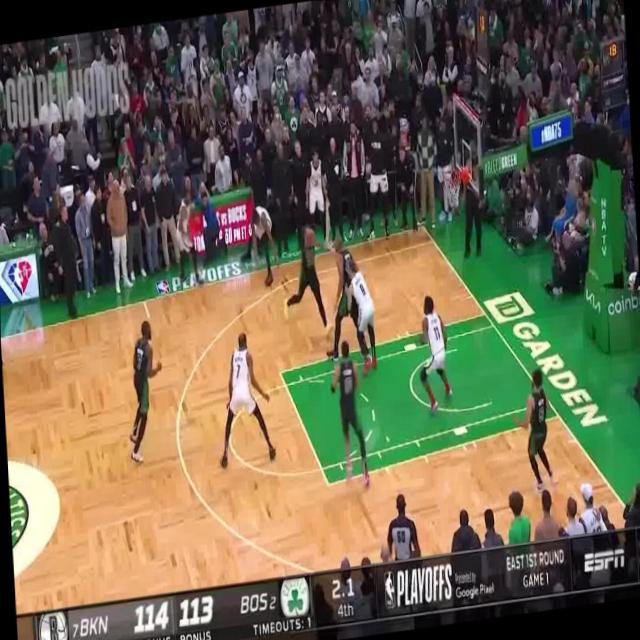ball-handler: (271, 209, 331, 345)
